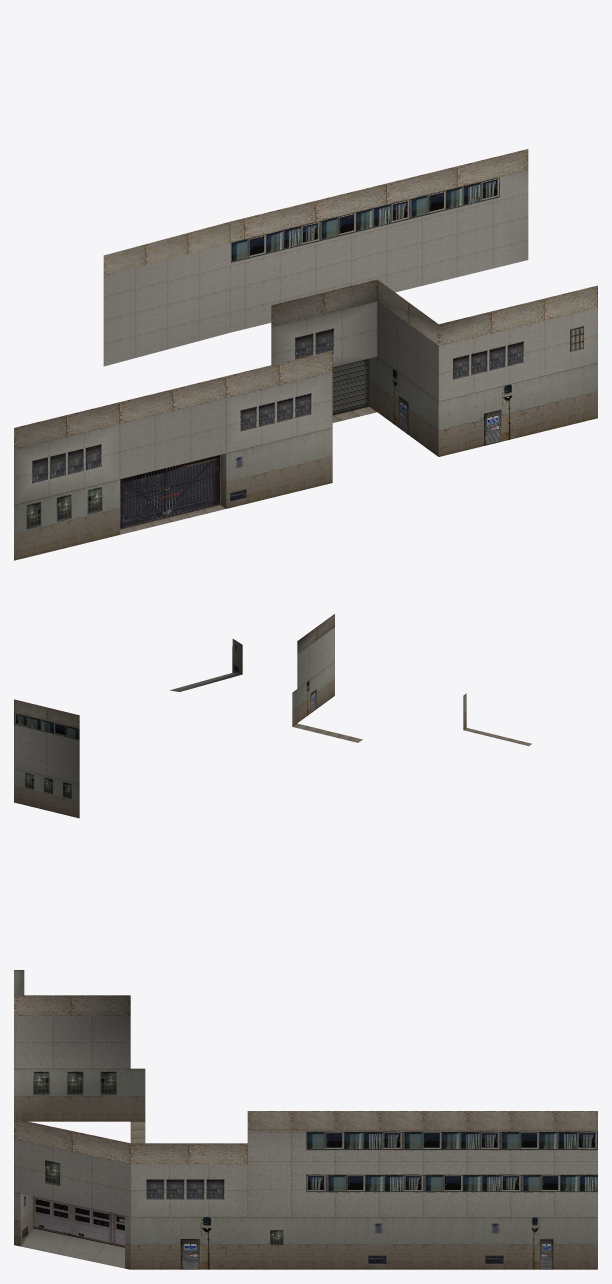
Rendered from M11Z1_TownWall02.glb.
The picture shows the model from 3 angles, top to bottom: view 1: azimuth 30°, elevation 25°; view 2: azimuth 150°, elevation 25°; view 3: azimuth 270°, elevation 25°; orthographic projection. The views are drawn at different scales.
Visible parts, largest first — view 1: M11Z1_TOWNWALL02; view 2: M11Z1_TOWNWALL02; view 3: M11Z1_TOWNWALL02.
Boxes of the visible parts, x1=… form: M11Z1_TOWNWALL02: x1=14, y1=149, x2=597, y2=560; M11Z1_TOWNWALL02: x1=14, y1=614, x2=531, y2=818; M11Z1_TOWNWALL02: x1=14, y1=970, x2=597, y2=1269.
Size of the model in its own units: 48 by 12 by 40.
11 materials, 11 textured.
